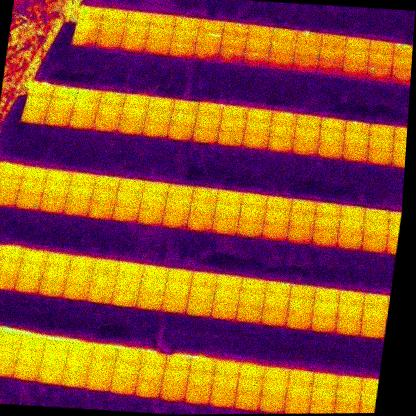Diode: (196, 32, 222, 48)
Hotspot: (288, 368, 315, 387), (265, 280, 292, 298), (363, 292, 390, 310), (243, 51, 270, 69), (344, 120, 372, 137), (192, 186, 219, 203), (296, 30, 323, 47), (187, 373, 214, 390), (365, 66, 392, 83), (94, 175, 120, 192), (140, 195, 166, 212), (197, 102, 224, 118), (221, 105, 248, 121), (271, 110, 298, 126), (223, 21, 249, 37), (170, 42, 196, 58), (218, 48, 244, 64), (171, 112, 196, 128), (392, 42, 413, 59)
Normal: (334, 317, 363, 336), (359, 320, 386, 340), (37, 366, 64, 386), (118, 177, 146, 196), (240, 277, 268, 296), (19, 335, 47, 354), (12, 363, 40, 382), (184, 388, 212, 407), (315, 202, 342, 221), (165, 197, 192, 216), (40, 195, 67, 214), (212, 218, 239, 237), (237, 221, 264, 240), (216, 273, 243, 292), (314, 286, 341, 305), (161, 296, 188, 315), (311, 315, 338, 334), (40, 352, 67, 371), (263, 367, 290, 386), (160, 384, 187, 403), (292, 139, 320, 157), (240, 193, 268, 211), (186, 215, 214, 233), (286, 227, 314, 245), (92, 259, 120, 277), (166, 268, 194, 286), (210, 303, 238, 321), (261, 309, 289, 327), (284, 313, 312, 331), (238, 364, 266, 382), (312, 372, 340, 390), (113, 363, 141, 381), (115, 275, 141, 294), (114, 193, 143, 210), (318, 129, 345, 147), (342, 145, 369, 163), (46, 169, 73, 187), (167, 184, 194, 202), (216, 190, 243, 208), (266, 195, 293, 213), (363, 208, 390, 226), (239, 207, 266, 225), (264, 210, 291, 228), (262, 224, 289, 242), (336, 233, 363, 251), (289, 283, 316, 301), (338, 289, 365, 307), (213, 289, 240, 307), (237, 291, 264, 309), (312, 300, 339, 318), (87, 286, 114, 304), (136, 293, 163, 311), (247, 24, 274, 42), (186, 300, 213, 318), (116, 348, 143, 366), (165, 355, 192, 373), (214, 361, 241, 379), (65, 355, 92, 373), (337, 375, 364, 393), (162, 370, 189, 388), (135, 381, 162, 399), (209, 391, 236, 409), (234, 393, 261, 411), (259, 396, 286, 414), (319, 46, 346, 64), (120, 35, 147, 53), (368, 123, 396, 140), (316, 143, 344, 160), (235, 307, 263, 324), (61, 371, 89, 388), (310, 387, 338, 404), (16, 192, 41, 211), (46, 251, 71, 270), (42, 265, 67, 284), (39, 279, 64, 298), (92, 345, 117, 364), (123, 93, 149, 111), (63, 200, 89, 218), (69, 255, 95, 273), (118, 262, 144, 280), (142, 265, 168, 283), (112, 290, 138, 308), (194, 44, 220, 62), (247, 107, 274, 124), (320, 117, 347, 134), (219, 118, 246, 135), (242, 134, 269, 151), (366, 149, 393, 166), (43, 183, 70, 200), (290, 199, 317, 216), (340, 205, 367, 222), (214, 204, 241, 221), (191, 271, 218, 288), (199, 18, 226, 35), (188, 286, 215, 303), (287, 298, 314, 315), (320, 33, 347, 50), (140, 353, 167, 370), (344, 36, 371, 53), (189, 359, 216, 376), (137, 367, 164, 384), (211, 376, 238, 393), (236, 379, 263, 396), (286, 384, 313, 401), (95, 34, 122, 51), (342, 50, 369, 67), (292, 57, 319, 74), (317, 60, 344, 77), (119, 119, 144, 137), (90, 359, 115, 377), (360, 237, 388, 253), (193, 128, 219, 145), (143, 181, 169, 198), (91, 188, 117, 205), (66, 270, 92, 287), (90, 273, 116, 290), (139, 280, 165, 297), (86, 374, 112, 391), (295, 115, 322, 131), (244, 120, 271, 136), (269, 124, 296, 140), (343, 133, 370, 149), (267, 137, 294, 153), (70, 173, 97, 189), (189, 201, 216, 217), (289, 213, 316, 229), (313, 217, 340, 233), (88, 204, 115, 220), (338, 219, 365, 235), (362, 223, 389, 239), (112, 208, 139, 224), (137, 211, 164, 227), (161, 213, 188, 229), (312, 231, 339, 247), (164, 283, 191, 299), (263, 296, 290, 312), (271, 28, 298, 44), (68, 342, 95, 358), (98, 21, 125, 37), (369, 40, 396, 56), (261, 382, 288, 398), (110, 379, 137, 395), (245, 38, 272, 54), (270, 40, 297, 56), (267, 55, 294, 71), (341, 63, 368, 79), (52, 85, 77, 102), (76, 88, 101, 105), (45, 111, 70, 128), (94, 116, 119, 133), (19, 180, 44, 197), (22, 249, 47, 266), (18, 263, 43, 280), (44, 338, 69, 355), (124, 23, 149, 40), (336, 304, 364, 319), (334, 390, 362, 405), (218, 131, 244, 147), (66, 187, 92, 203), (150, 14, 176, 30), (0, 246, 26, 262), (63, 284, 89, 300), (16, 350, 42, 366), (148, 27, 174, 43), (172, 29, 198, 45), (221, 35, 247, 51), (144, 40, 170, 56), (0, 332, 23, 350), (15, 277, 39, 294), (367, 136, 394, 151), (361, 308, 388, 323), (283, 399, 310, 414), (100, 92, 125, 108), (149, 97, 174, 113), (173, 99, 198, 115), (48, 99, 73, 115), (121, 108, 146, 124), (195, 115, 220, 131), (69, 114, 94, 130), (143, 122, 168, 138), (168, 126, 193, 142), (102, 8, 127, 24), (127, 11, 152, 27), (72, 32, 97, 48), (175, 17, 201, 32), (368, 53, 394, 68), (73, 101, 97, 117), (22, 108, 46, 124), (0, 164, 24, 180), (308, 400, 335, 414), (293, 44, 320, 58), (25, 97, 50, 112), (146, 110, 171, 125), (76, 20, 101, 35), (24, 166, 47, 182), (294, 128, 320, 142), (80, 6, 104, 21), (390, 69, 411, 86), (28, 84, 53, 98), (0, 261, 21, 277), (0, 347, 19, 364), (0, 178, 20, 194), (97, 105, 121, 118), (392, 56, 412, 71), (0, 273, 16, 291), (333, 403, 361, 413), (0, 189, 16, 206), (0, 360, 15, 378)
